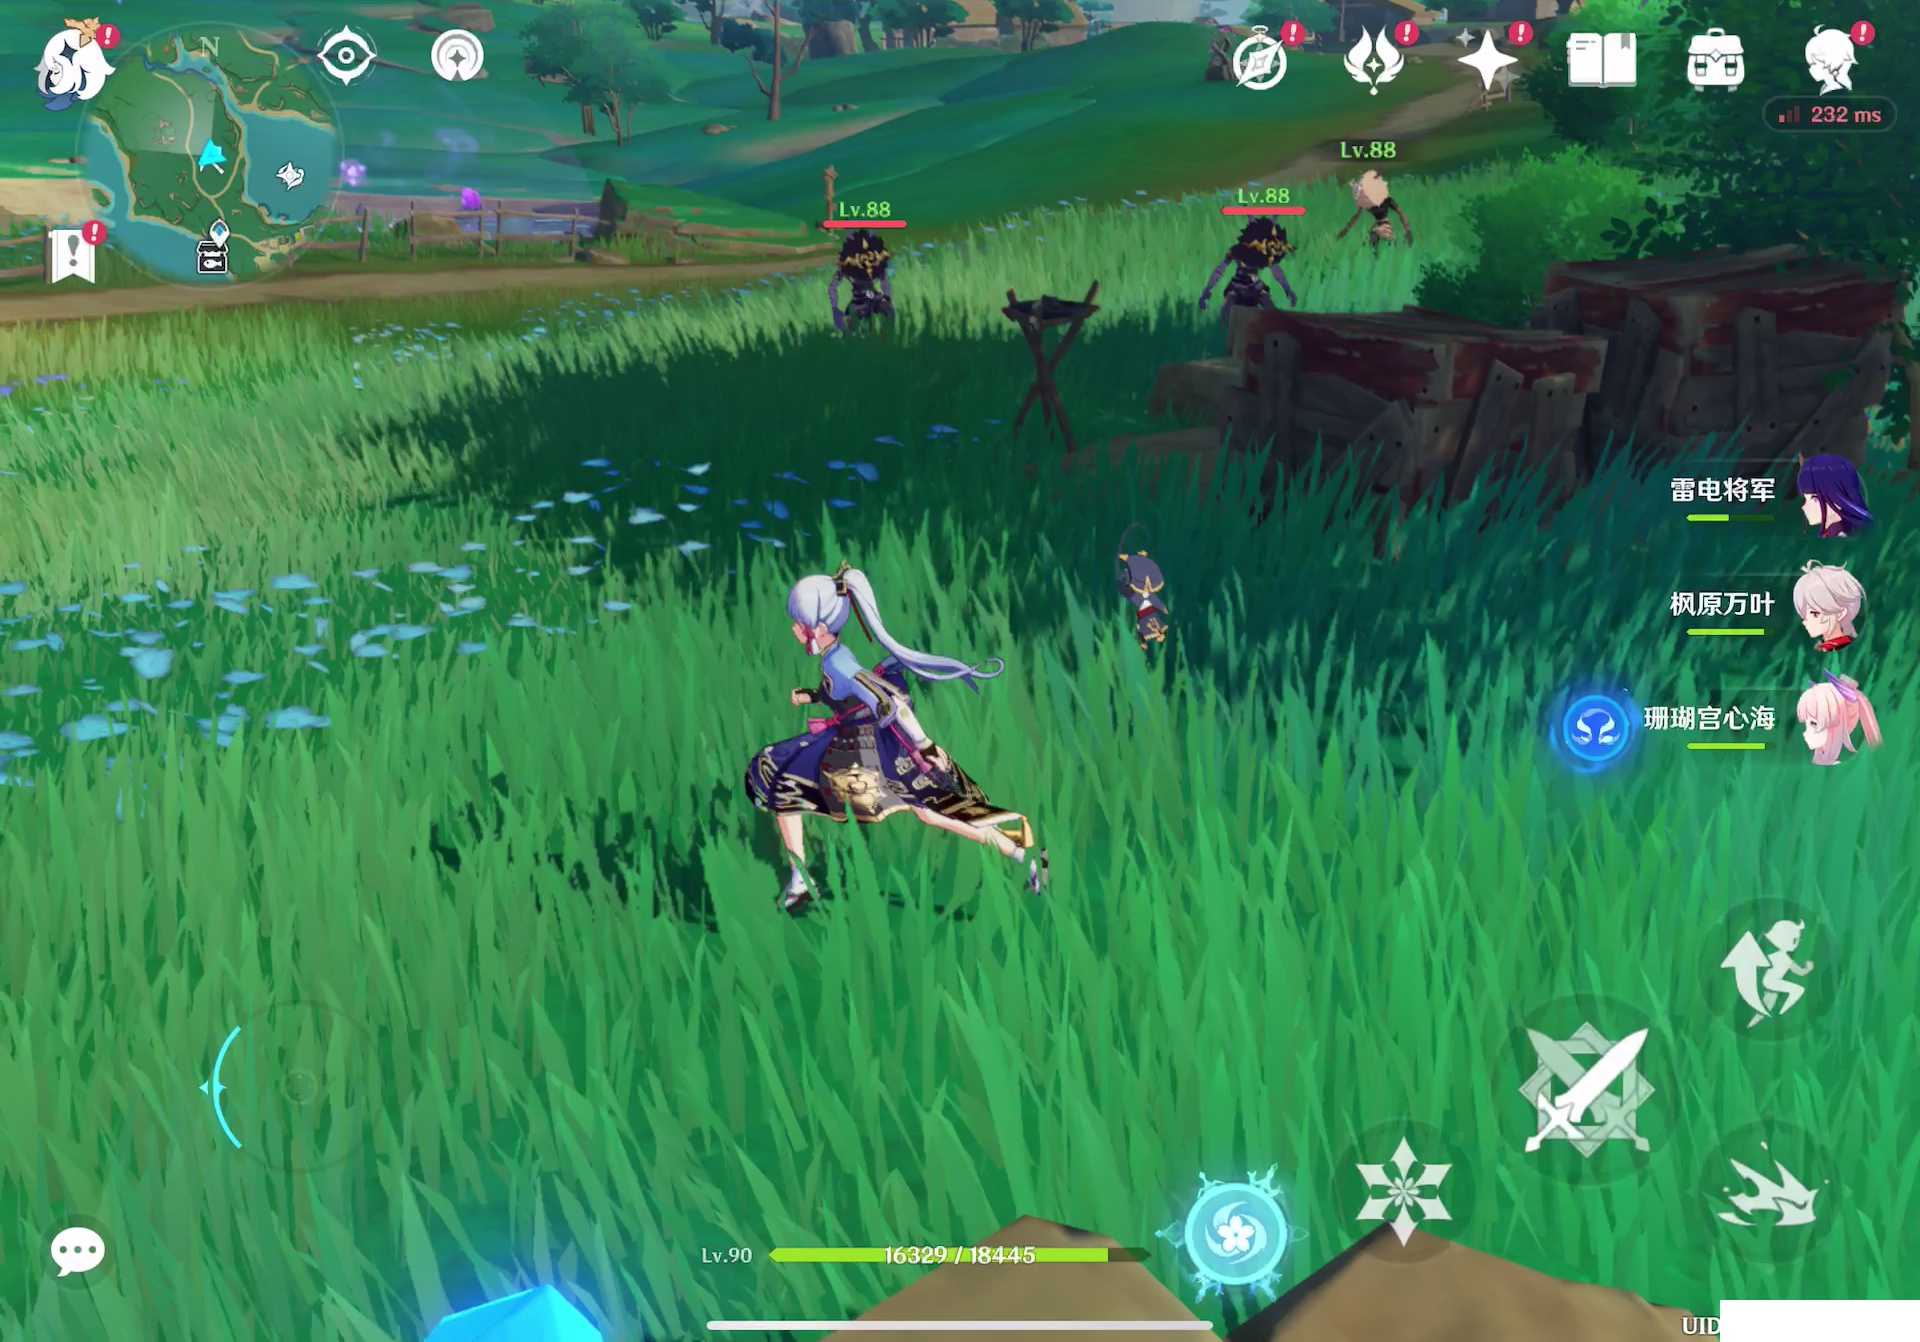丘丘人: (1214, 222, 1317, 315), (1339, 165, 1418, 258), (832, 235, 912, 325)
神里绫龟: (753, 544, 1037, 947)
